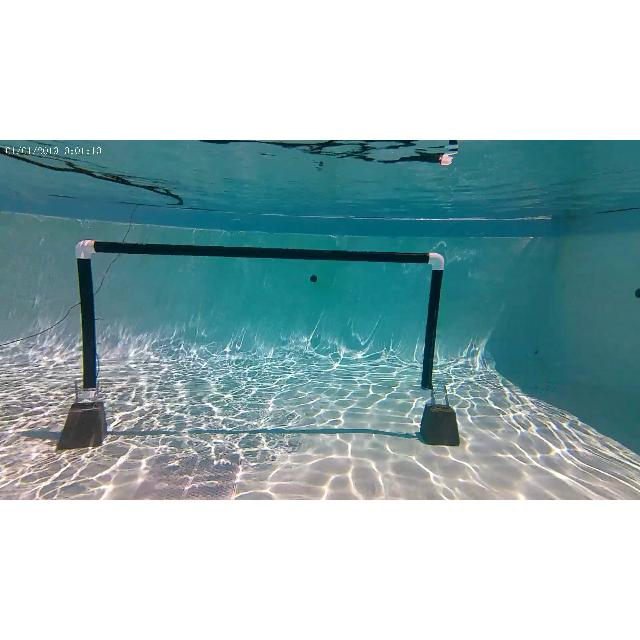prequal gate: (74, 239, 446, 403)
prequal gate leg l: (72, 236, 101, 402)
prequal gate leg r: (421, 246, 445, 392)
